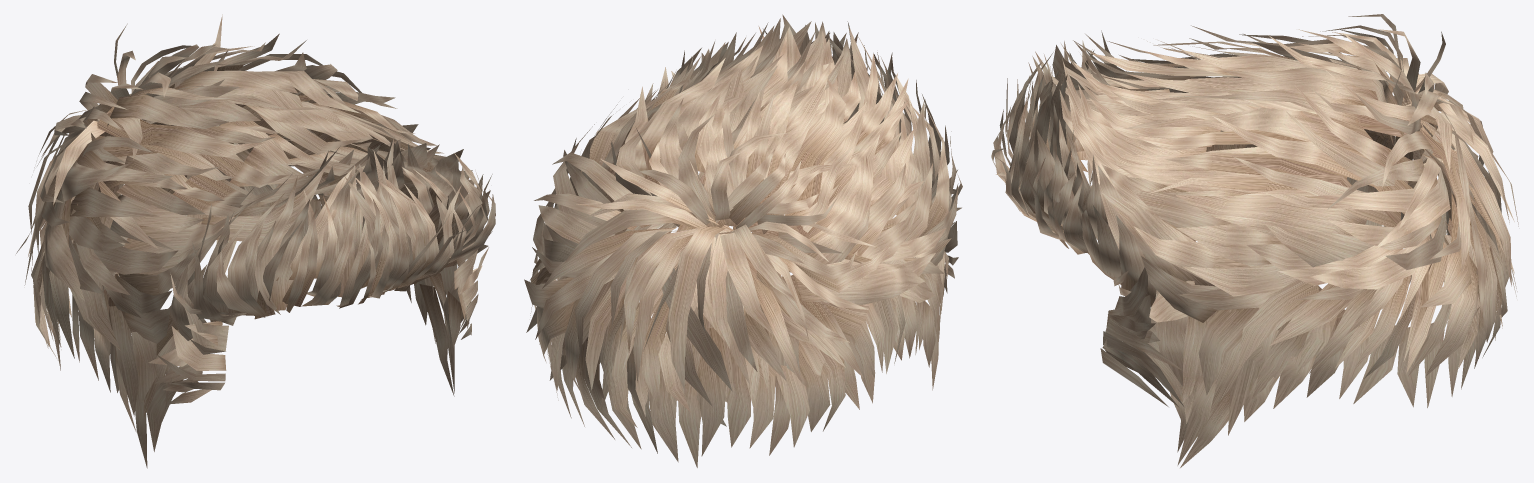
Rendered from manhair2-transformed.glb.
The picture shows the model from 3 angles, left to right: view 1: azimuth 30°, elevation 25°; view 2: azimuth 150°, elevation 25°; view 3: azimuth 270°, elevation 25°; orthographic projection. The views are drawn at different scales.
Parts seen in each view (by area): view 1: 18; view 2: 18; view 3: 18.
Boxes of the visible parts, x1,y1,x2,y2 form: 18: (16,14,495,468); 18: (524,14,962,467); 18: (991,14,1518,467).
Bounding box in the file's own units: 0.4004 × 0.3527 × 0.4779.
1 material, 1 textured.
